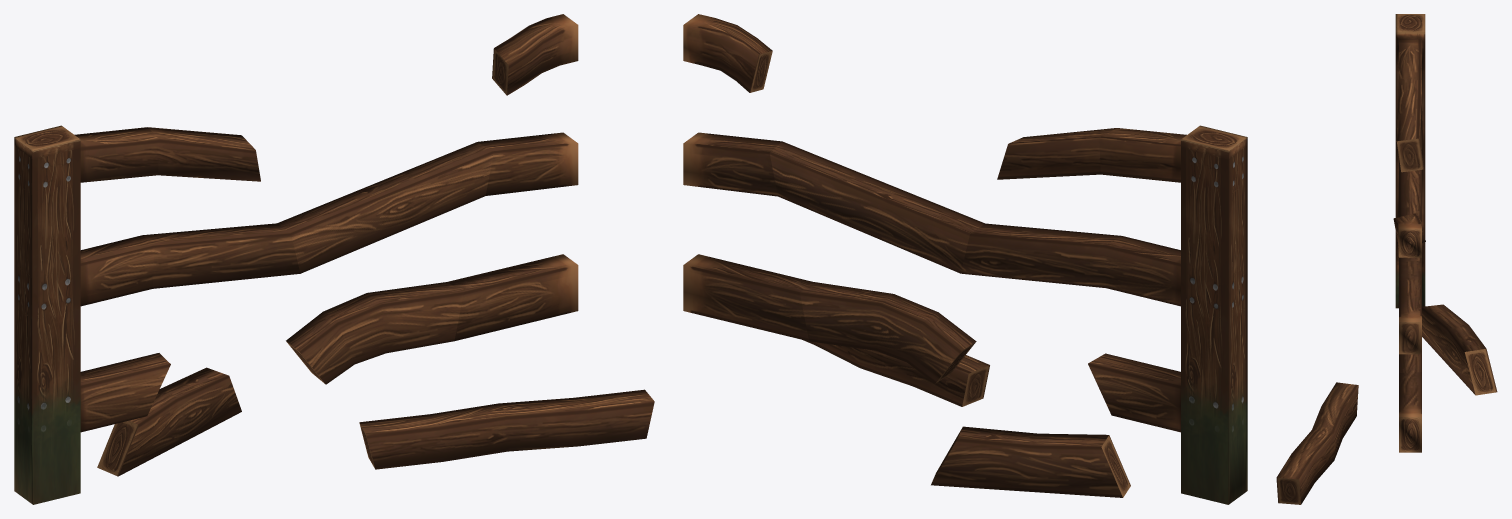
File: cerca_quebrada2.fbx
3 renders of one model, left to right at view 1: azimuth 30°, elevation 25°; view 2: azimuth 150°, elevation 25°; view 3: azimuth 270°, elevation 25°, orthographic. The views are drawn at different scales.
Parts seen in each view (by area): view 1: CA_OPE_Props_Fazenda; view 2: CA_OPE_Props_Fazenda; view 3: CA_OPE_Props_Fazenda.
Boxes of the visible parts, x1,y1,x2,y2 form: CA_OPE_Props_Fazenda: (14, 14, 654, 504); CA_OPE_Props_Fazenda: (683, 14, 1247, 504); CA_OPE_Props_Fazenda: (1276, 14, 1497, 504).
Size of the model in its own units: 3.34 by 2.11 by 1.49.
